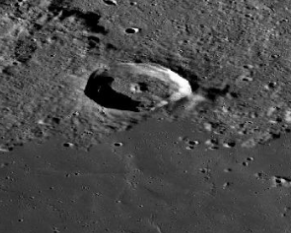crater: (57, 42, 218, 141)
